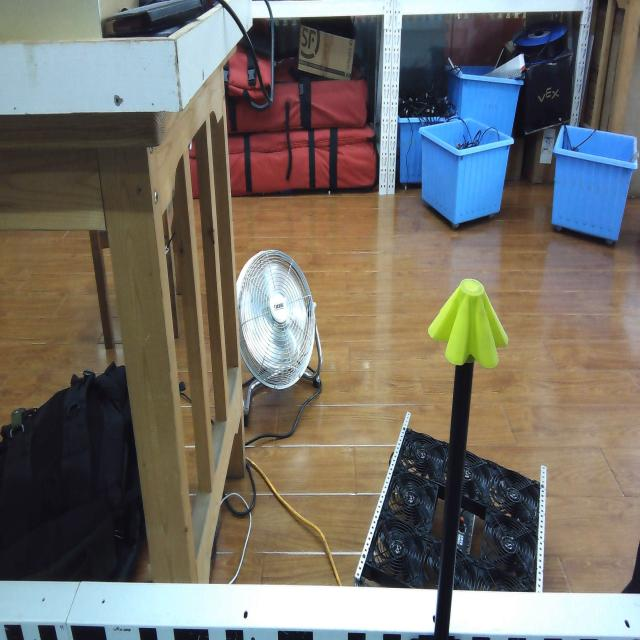Yellow-Stake-Head: (429, 274, 511, 371)
